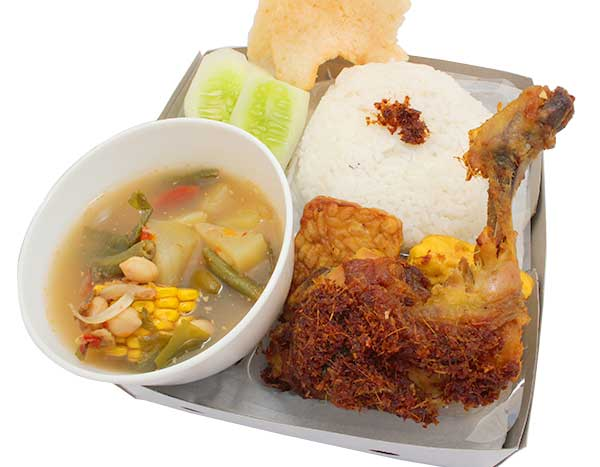buah_sayur_lainnya: (216, 61, 264, 126)
buah_sayur_vitA: (97, 198, 233, 336)
daging: (327, 281, 519, 383)
kacang_legume: (310, 208, 364, 267)
makanan_berpati: (340, 74, 453, 185), (274, 1, 384, 47)
